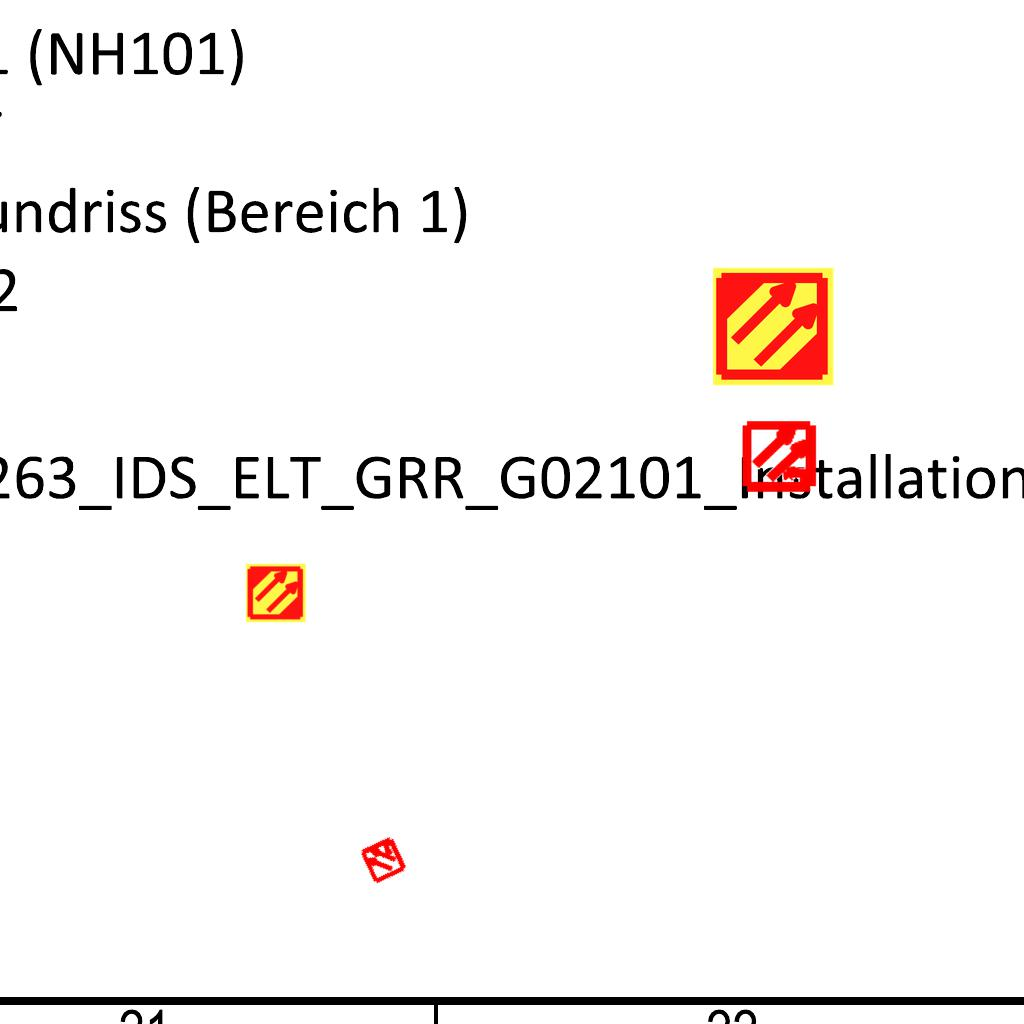ASR_Ansaugrauchmelder: (711, 264, 836, 389), (245, 562, 307, 624)
OT_Multisensormelder_(Kombination_RMO_WMD): (725, 400, 838, 513), (345, 821, 421, 897)
